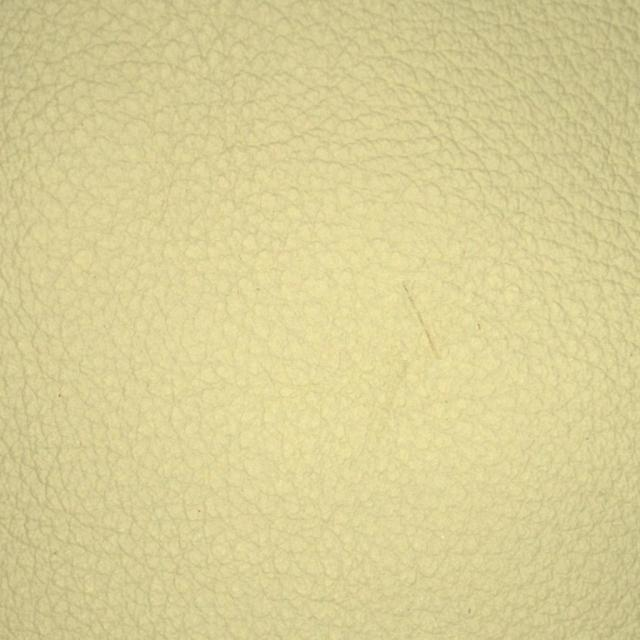Scratch: (323, 233, 515, 421)
